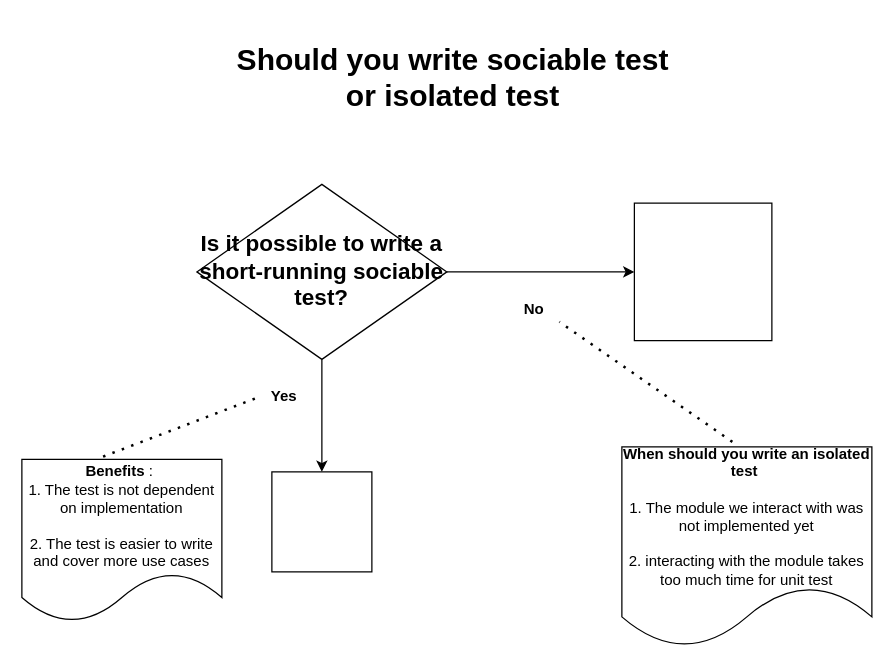
Some shapes in this 894 by 669 pixel diagram are drawn without their labels. The shapes that lost their labels are listed below. From the top down, each one's box as (x1, y1, x2, y2) in pixels, then its label:
(633, 202, 772, 341): write isolated (solitary) test
(271, 471, 372, 572): write sociable test
